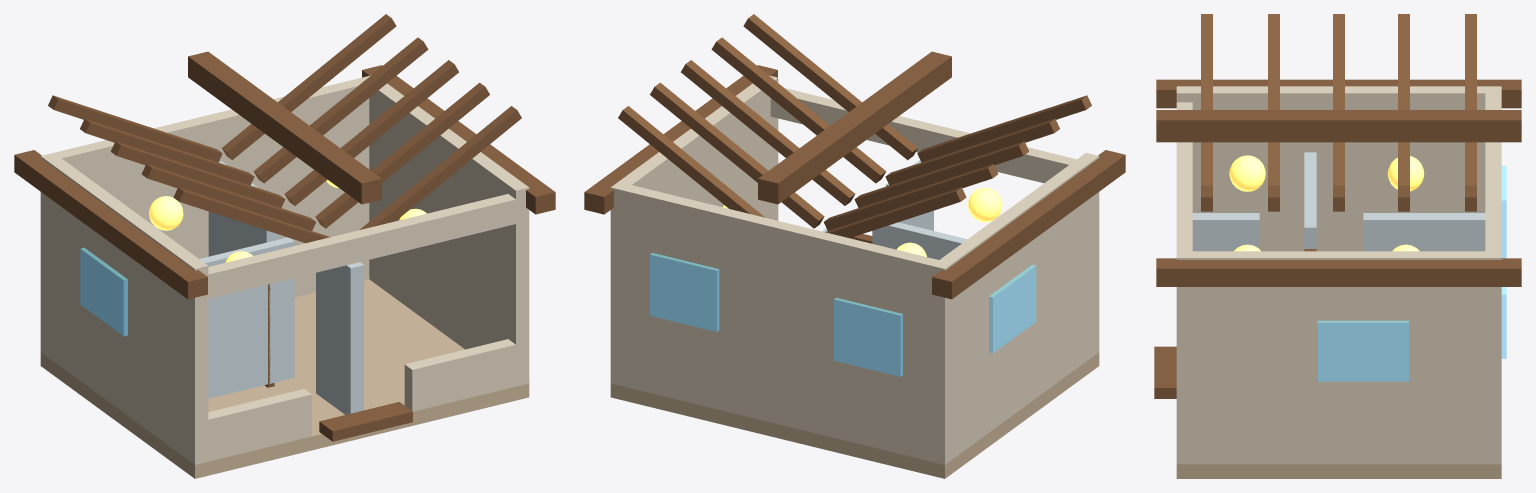
File: empty-house.glb
The picture shows the model from 3 angles, left to right: view 1: azimuth 30°, elevation 25°; view 2: azimuth 150°, elevation 25°; view 3: azimuth 270°, elevation 25°; orthographic projection. The views are drawn at different scales.
Visible parts, largest first — view 1: Muro_lateral_izquierdo, Muro_lateral_derecho, Losa_suelo, Muro_trasero, Cabio_derecho (×5), Cabio_izquierdo (×5), Dintel_frontal, Tabique_transversal_izquierdo, Viga_cumbrera, Tabique_central_entrada, Alero_izquierdo, Zocalo_frontal_derecho (+6 smaller); view 2: Muro_trasero, Muro_lateral_izquierdo, Cabio_derecho (×5), Cabio_izquierdo (×5), Viga_cumbrera, Muro_lateral_derecho, Losa_suelo, Alero_izquierdo, Ventana_trasera_derecha, Ventana_trasera_izquierda, Dintel_frontal, Ventana_lateral_izquierda (+3 smaller); view 3: Muro_lateral_derecho, Muro_lateral_izquierdo, Viga_cumbrera, Alero_derecho, Cabio_izquierdo (×5), Ventana_lateral_derecha, Muro_trasero, Losa_suelo, Tabique_central, Alero_izquierdo, Tabique_central_entrada, Dintel_frontal (+6 smaller).
Part boxes in pixels (x1=…): Muro_lateral_izquierdo: x1=41, y1=153, x2=208, y2=464; Muro_lateral_derecho: x1=362, y1=76, x2=529, y2=383; Losa_suelo: x1=40, y1=279, x2=529, y2=478; Muro_trasero: x1=40, y1=75, x2=370, y2=356; Cabio_derecho (×5): x1=222, y1=14, x2=521, y2=229; Cabio_izquierdo (×5): x1=48, y1=95, x2=330, y2=243; Dintel_frontal: x1=191, y1=194, x2=529, y2=301; Tabique_transversal_izquierdo: x1=199, y1=237, x2=294, y2=398; Viga_cumbrera: x1=188, y1=51, x2=381, y2=204; Tabique_central_entrada: x1=316, y1=262, x2=363, y2=414; Alero_izquierdo: x1=14, y1=150, x2=207, y2=299; Zocalo_frontal_derecho: x1=404, y1=339, x2=525, y2=411; Muro_trasero: x1=610, y1=185, x2=952, y2=464; Muro_lateral_izquierdo: x1=931, y1=153, x2=1099, y2=464; Cabio_derecho (×5): x1=618, y1=14, x2=917, y2=228; Cabio_izquierdo (×5): x1=824, y1=95, x2=1091, y2=238; Viga_cumbrera: x1=758, y1=51, x2=951, y2=204; Muro_lateral_derecho: x1=611, y1=75, x2=778, y2=280; Losa_suelo: x1=610, y1=352, x2=1099, y2=478; Alero_izquierdo: x1=932, y1=150, x2=1125, y2=299; Ventana_trasera_derecha: x1=650, y1=253, x2=719, y2=331; Ventana_trasera_izquierda: x1=834, y1=297, x2=902, y2=376; Dintel_frontal: x1=770, y1=88, x2=1076, y2=183; Ventana_lateral_izquierda: x1=989, y1=264, x2=1036, y2=353; Muro_lateral_derecho: x1=1176, y1=251, x2=1501, y2=464; Muro_lateral_izquierdo: x1=1176, y1=86, x2=1501, y2=251; Viga_cumbrera: x1=1156, y1=110, x2=1521, y2=142; Alero_derecho: x1=1156, y1=258, x2=1521, y2=286; Cabio_izquierdo (×5): x1=1201, y1=14, x2=1476, y2=185; Ventana_lateral_derecha: x1=1317, y1=320, x2=1408, y2=381; Muro_trasero: x1=1485, y1=86, x2=1501, y2=464; Losa_suelo: x1=1176, y1=464, x2=1501, y2=478; Tabique_central: x1=1363, y1=213, x2=1485, y2=251; Alero_izquierdo: x1=1156, y1=79, x2=1521, y2=108; Tabique_central_entrada: x1=1192, y1=213, x2=1259, y2=251; Dintel_frontal: x1=1176, y1=102, x2=1192, y2=292.
Size of the model in its own units: 0.22 by 0.1595 by 0.181.
